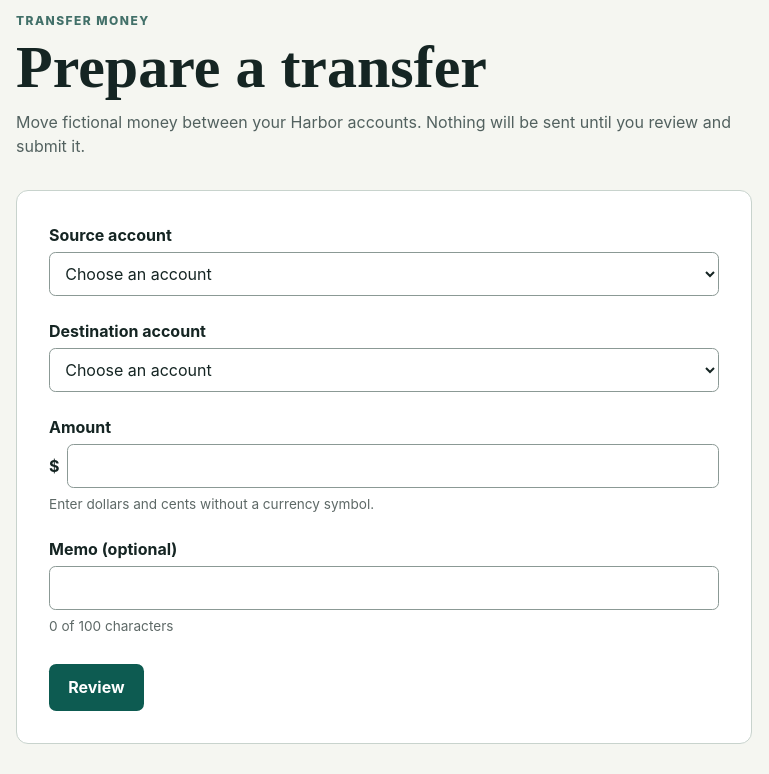
Test: transfer form validation › associates required errors with each required control
Click the button "Review": [96, 688] box [49, 664, 144, 711]
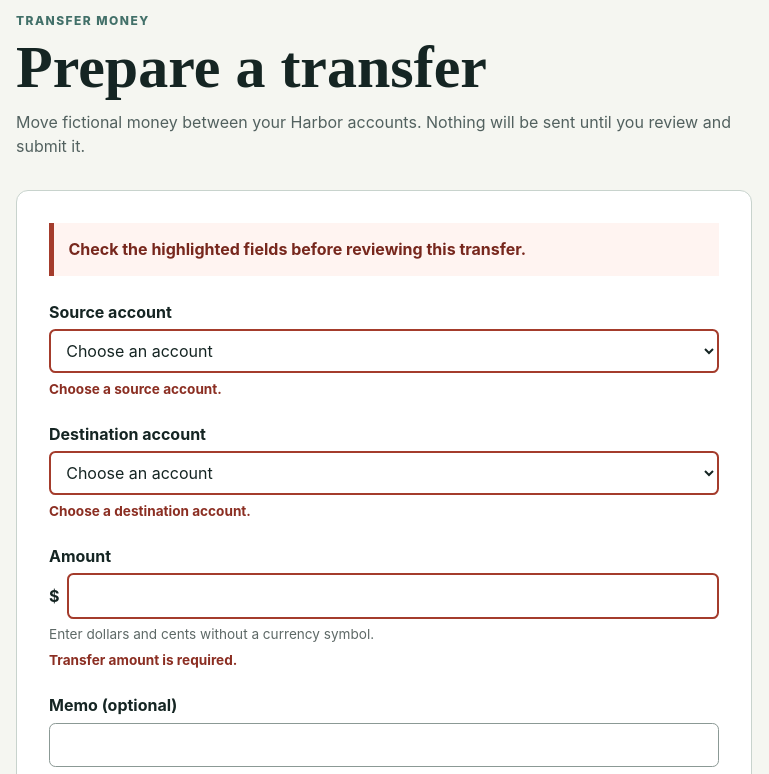
Check: the text "Choose a source account." is shown, box [49, 381, 222, 397]
Check: the text "Choose a destination account." is shown, box [49, 503, 251, 519]
Check: the text "Transfer amount is required." is shown, box [49, 652, 237, 668]
